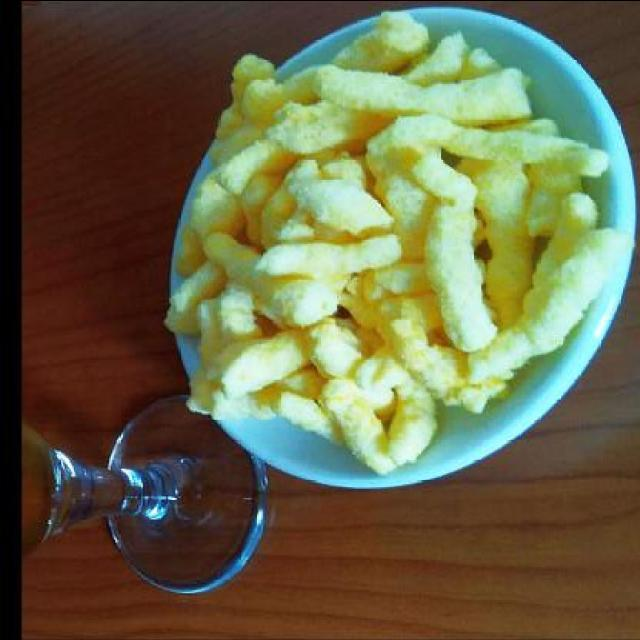Chips packaged: (162, 8, 614, 466)
